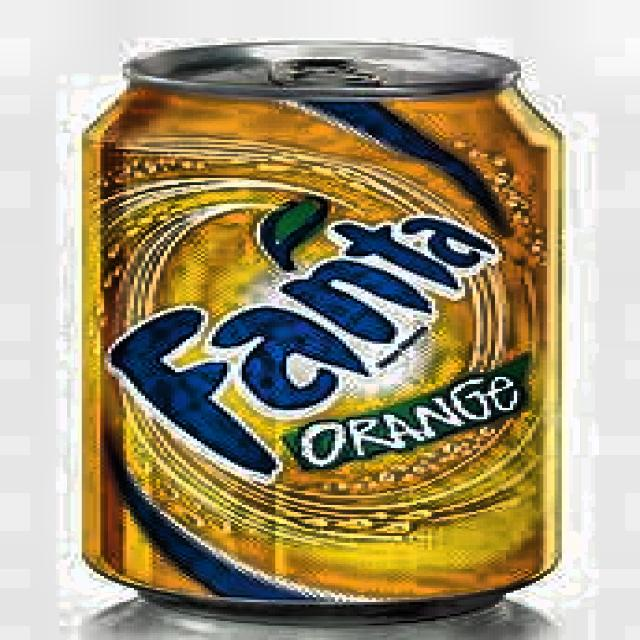Cans: (46, 30, 584, 638)
